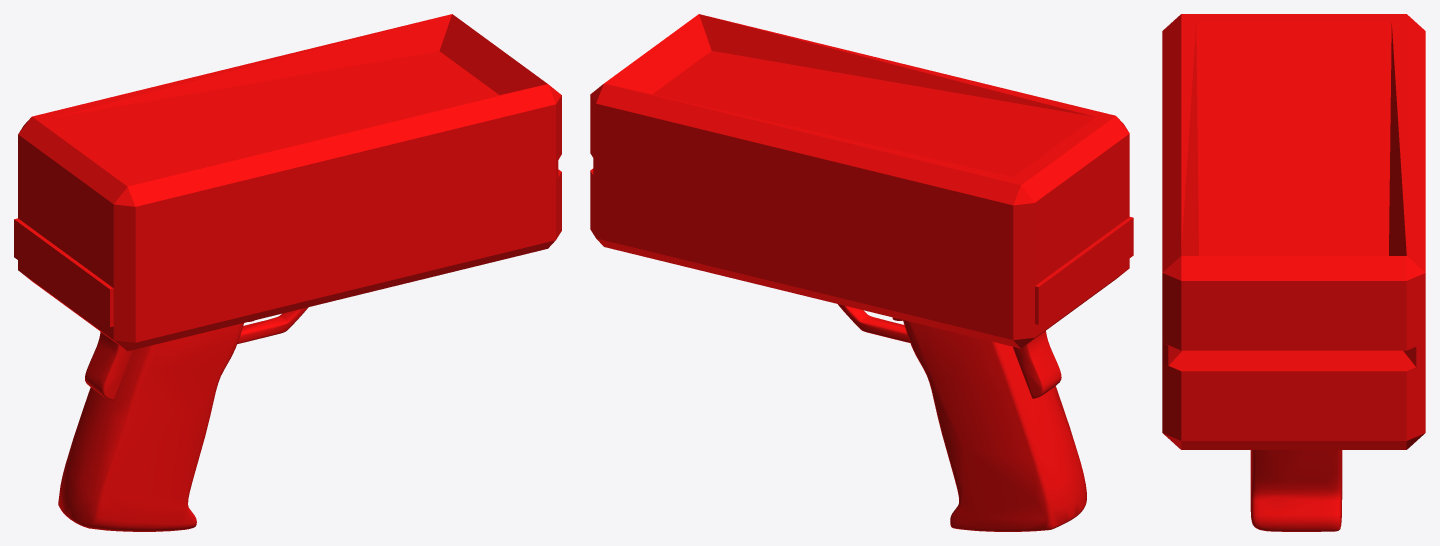
The model's file is moneygun (1).fbx.
3 views of the same model, side by side, from view 1: azimuth 30°, elevation 25°; view 2: azimuth 150°, elevation 25°; view 3: azimuth 270°, elevation 25° (orthographic). The views are drawn at different scales.
Parts seen in each view (by area): view 1: Box003, pCube2, pCube4, pCube5; view 2: Box003, pCube2, pCube4, pCube5; view 3: Box003, pCube2.
Part boxes in pixels (<box>): Box003: <box>14,14,561,351</box>; pCube2: <box>58,323,243,531</box>; pCube4: <box>85,331,132,400</box>; pCube5: <box>237,307,308,343</box>; Box003: <box>590,14,1133,348</box>; pCube2: <box>903,320,1086,531</box>; pCube4: <box>1013,331,1061,398</box>; pCube5: <box>838,304,910,342</box>; Box003: <box>1162,14,1425,449</box>; pCube2: <box>1250,450,1342,531</box>.
Size of the model in its own units: 113 by 93.78 by 48.48.
